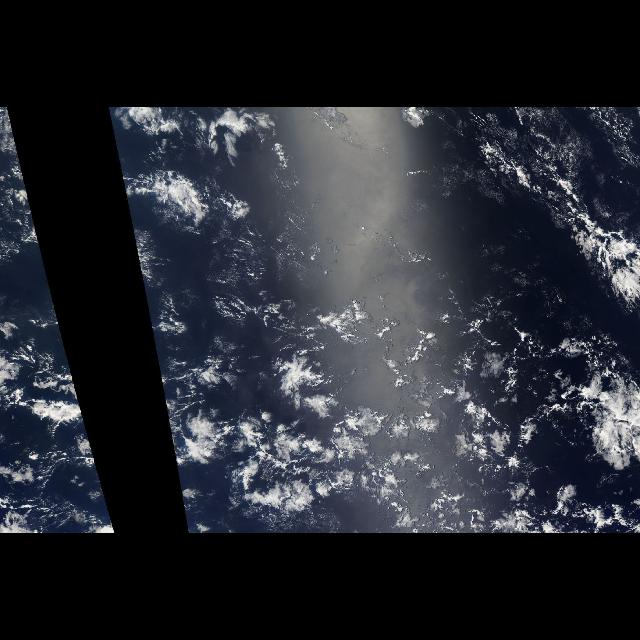Fish: (473, 133, 551, 221)
Flower: (245, 354, 382, 508)
Sugar: (186, 228, 372, 294)
